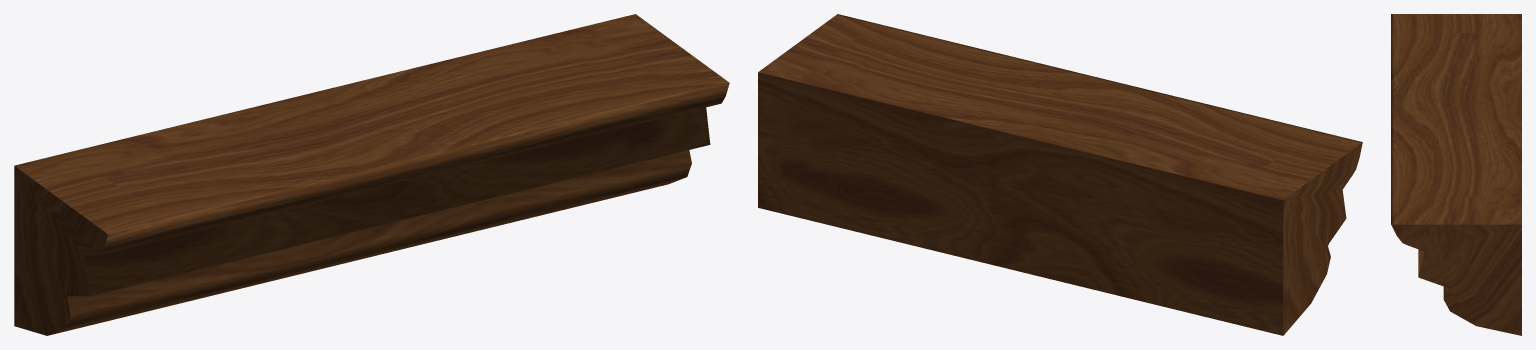
Rendered from Misc_CeilingTrim.fbx.
3 renders of one model, left to right at view 1: azimuth 30°, elevation 25°; view 2: azimuth 150°, elevation 25°; view 3: azimuth 270°, elevation 25°, orthographic. The views are drawn at different scales.
Visible parts, largest first — view 1: CeilingTrimUVd:extrudedSurface3; view 2: CeilingTrimUVd:extrudedSurface3; view 3: CeilingTrimUVd:extrudedSurface3.
Part boxes in pixels (x1,y1,x2,y2): CeilingTrimUVd:extrudedSurface3: [14, 14, 729, 335]; CeilingTrimUVd:extrudedSurface3: [758, 14, 1362, 335]; CeilingTrimUVd:extrudedSurface3: [1391, 14, 1521, 335].
Size of the model in its own units: 200 by 49.35 by 52.45.
